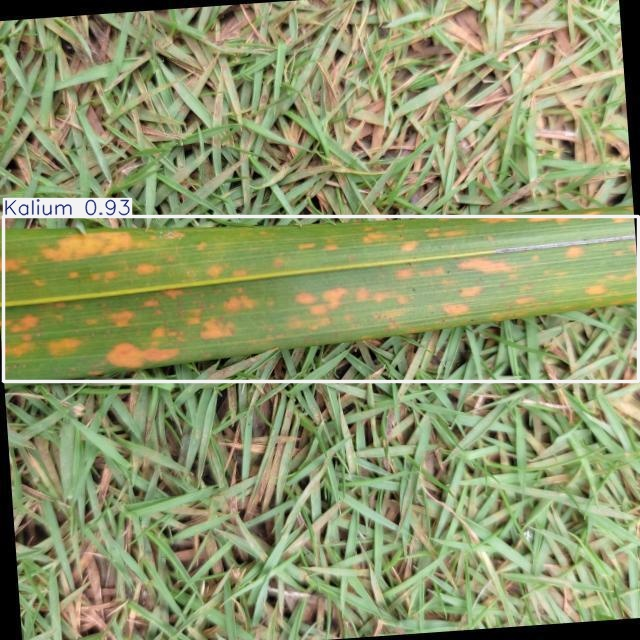Kalium: (3, 217, 638, 382)
